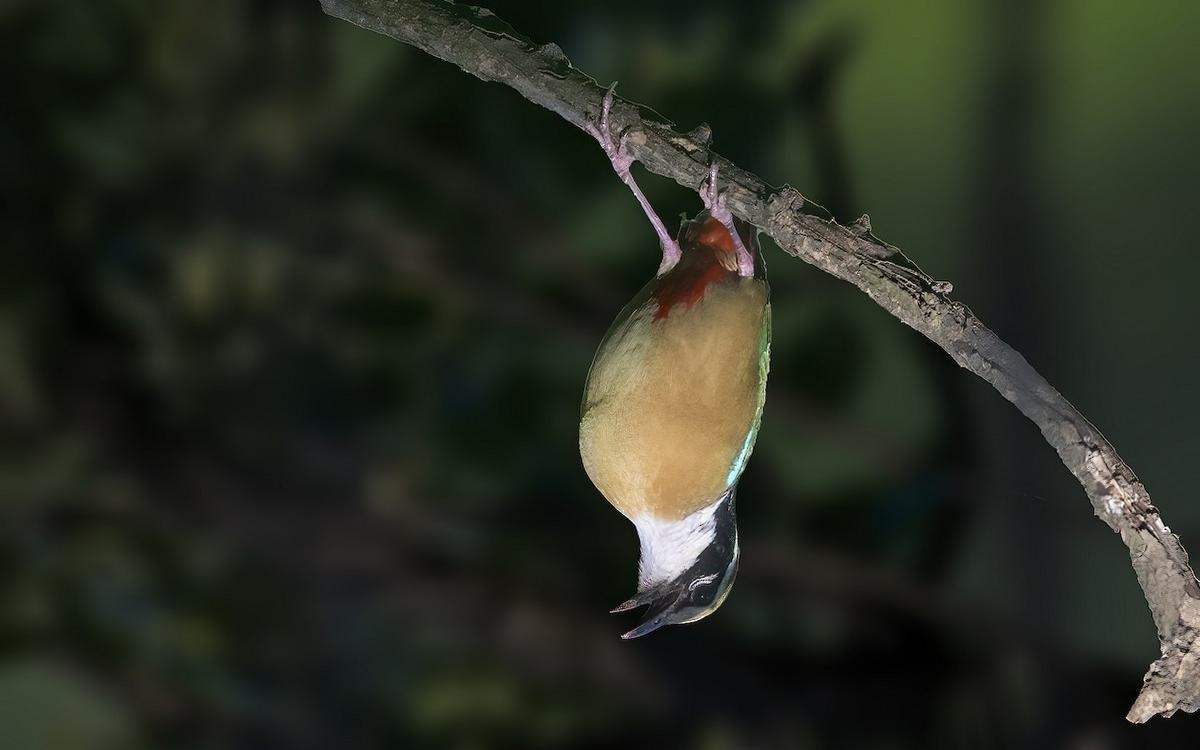pitta: (537, 129, 808, 687)
